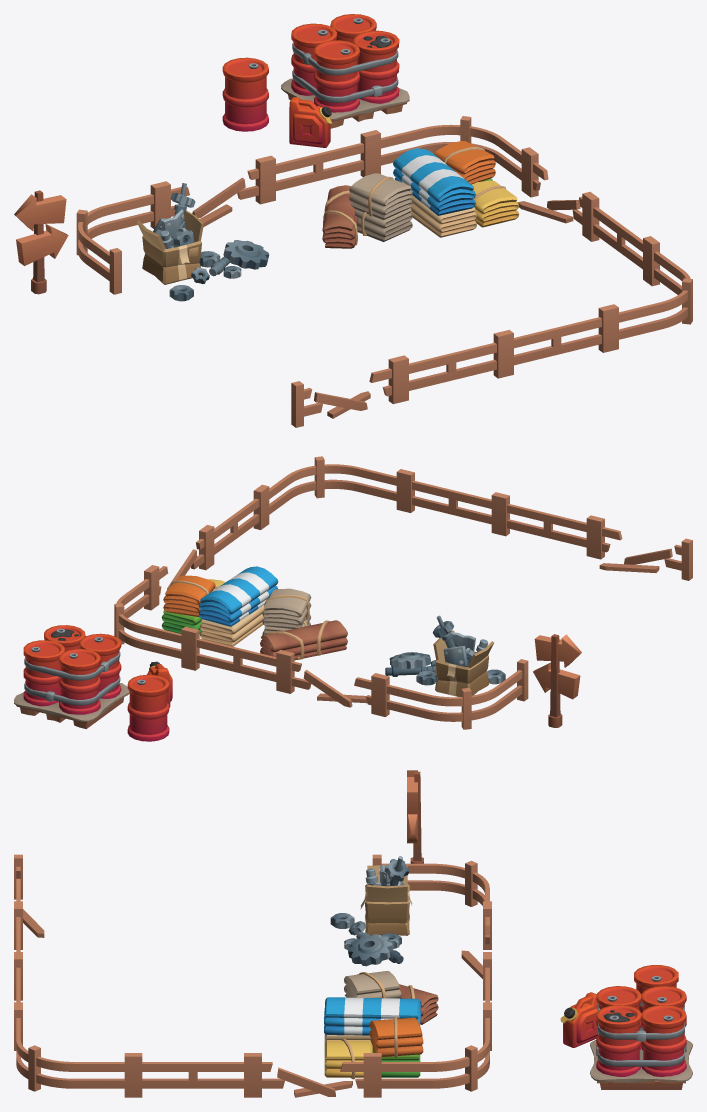
Rendered from Parking Lot.glb.
3 renders of one model, top to bottom at view 1: azimuth 30°, elevation 25°; view 2: azimuth 150°, elevation 25°; view 3: azimuth 270°, elevation 25°, orthographic. The views are drawn at different scales.
Visible parts, largest first — view 1: Props, Fence; view 2: Fence, Props; view 3: Props, Fence.
Boxes of the visible parts, left/top/right/bottom form: Props: left=137, top=14, right=519, bottom=301; Fence: left=14, top=116, right=692, bottom=427; Fence: left=114, top=456, right=692, bottom=729; Props: left=14, top=566, right=505, bottom=741; Props: left=324, top=856, right=692, bottom=1089; Fence: left=14, top=770, right=491, bottom=1097.
Bounding box in the file's own units: 9.5 × 1.88 × 11.36.
Materials: 2 (2 with a texture image).
